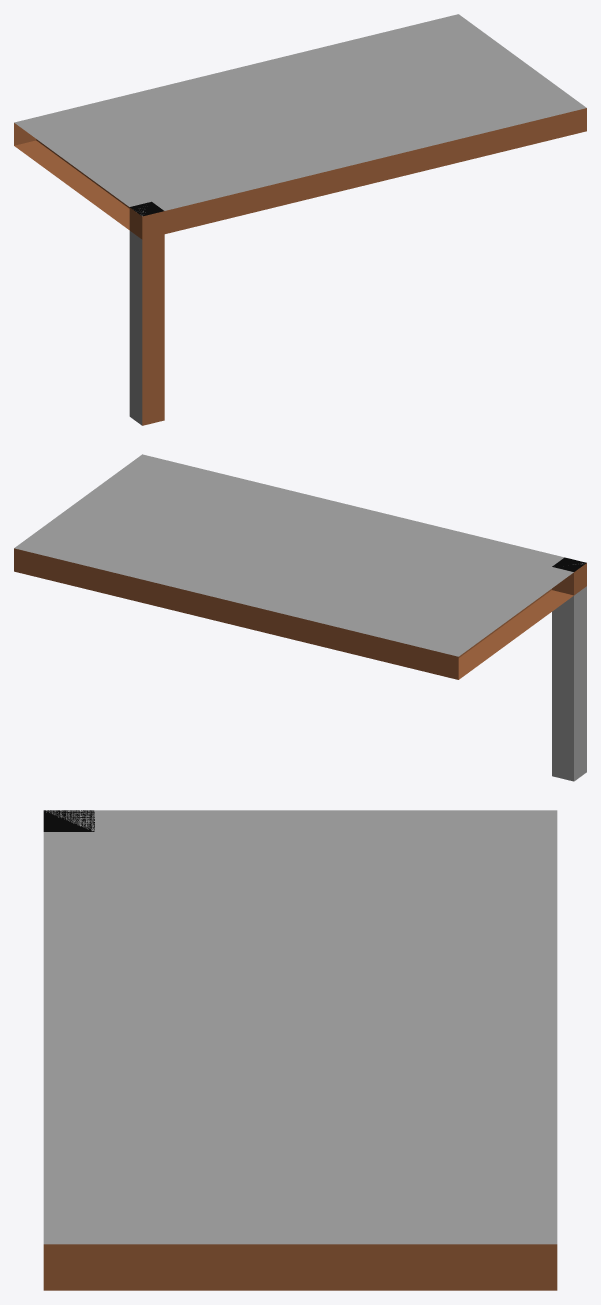
File: table.obj
3 views of the same model, one above another, from view 1: azimuth 30°, elevation 25°; view 2: azimuth 150°, elevation 25°; view 3: azimuth 270°, elevation 25° (orthographic). The views are drawn at different scales.
Parts seen in each view (by area): view 1: Cube; view 2: Cube; view 3: Cube.
Part boxes in pixels (left/top/right/bottom): Cube: left=14, top=14, right=586, bottom=425; Cube: left=14, top=454, right=586, bottom=781; Cube: left=43, top=810, right=557, bottom=1290.
Bounding box in the file's own units: 4 × 1.8 × 2.
